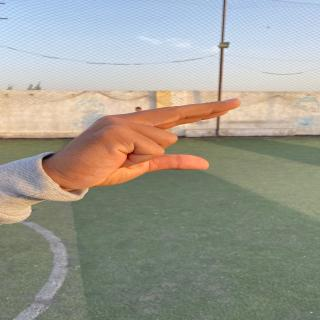DHELL: (41, 93, 265, 191)
